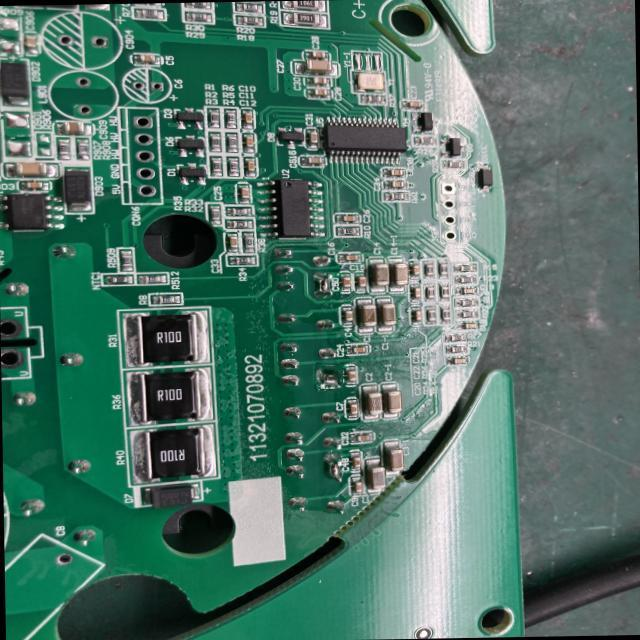damged: (321, 450, 348, 486), (309, 270, 335, 300), (315, 364, 341, 390)
